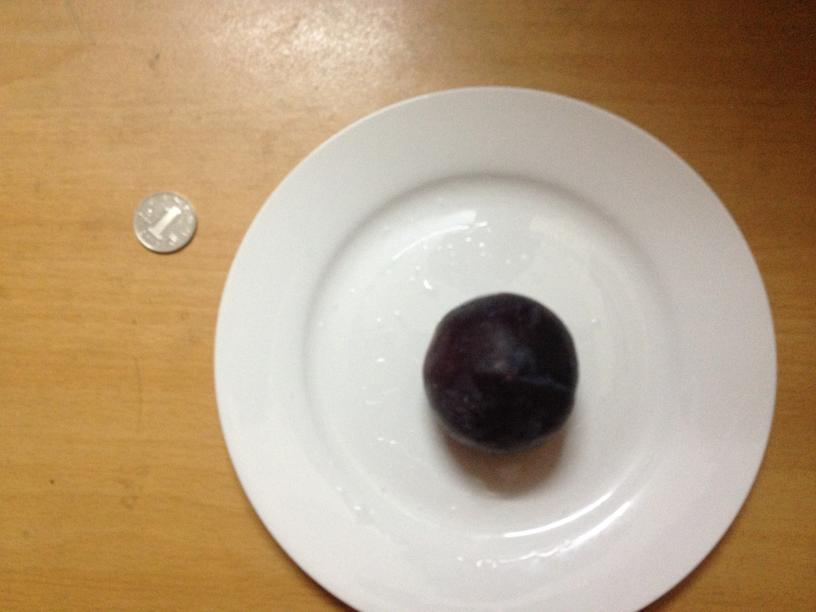coin: (131, 193, 196, 254)
plum: (421, 293, 577, 445)
